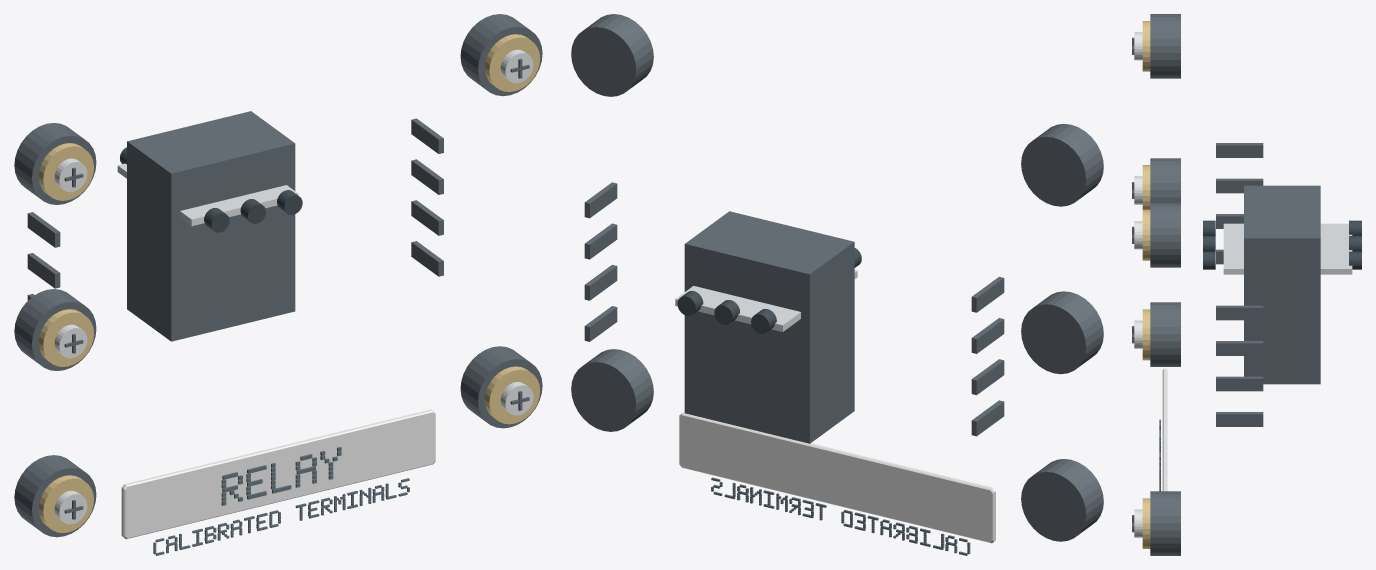
File: auxiliaryRelay.glb
3 views of the same model, side by side, from view 1: azimuth 30°, elevation 25°; view 2: azimuth 150°, elevation 25°; view 3: azimuth 270°, elevation 25° (orthographic). The views are drawn at different scales.
Visible parts, largest first — view 1: auxiliaryRelay-detailed; view 2: auxiliaryRelay-detailed; view 3: auxiliaryRelay-detailed.
Part boxes in pixels (left/top/right/bottom): auxiliaryRelay-detailed: left=14, top=14, right=542, bottom=555; auxiliaryRelay-detailed: left=571, top=14, right=1103, bottom=555; auxiliaryRelay-detailed: left=1132, top=14, right=1361, bottom=555.
Size of the model in its own units: 2.48 by 2.07 by 1.11.
